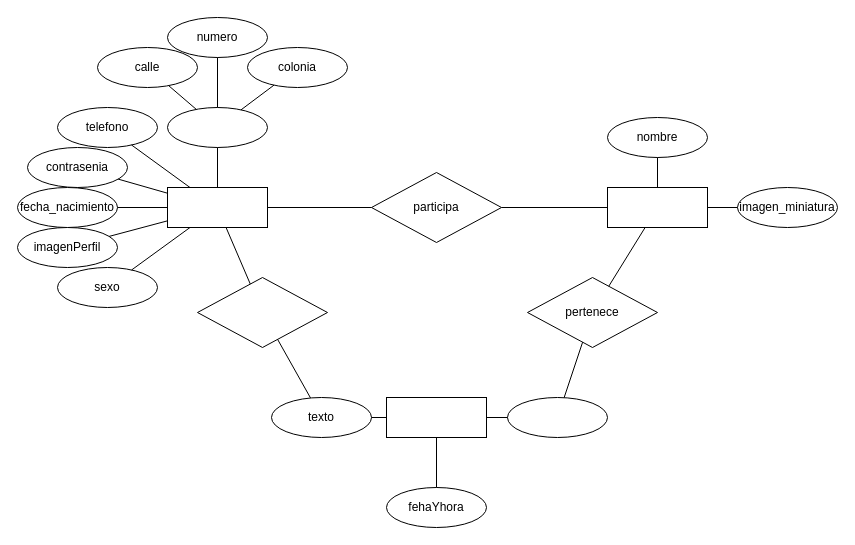
The diagram is 855 pixels wide and 545 high, and some of its shapes have lost their labels. The box of each missing label's shape, as (x1, y1, x2, y2) in pixels:
Chat: (606, 186, 708, 228)
direccion: (166, 106, 268, 148)
envia: (196, 276, 328, 348)
imagen: (506, 396, 608, 438)
Mensaje: (386, 396, 486, 438)
Usuario: (166, 186, 268, 228)
